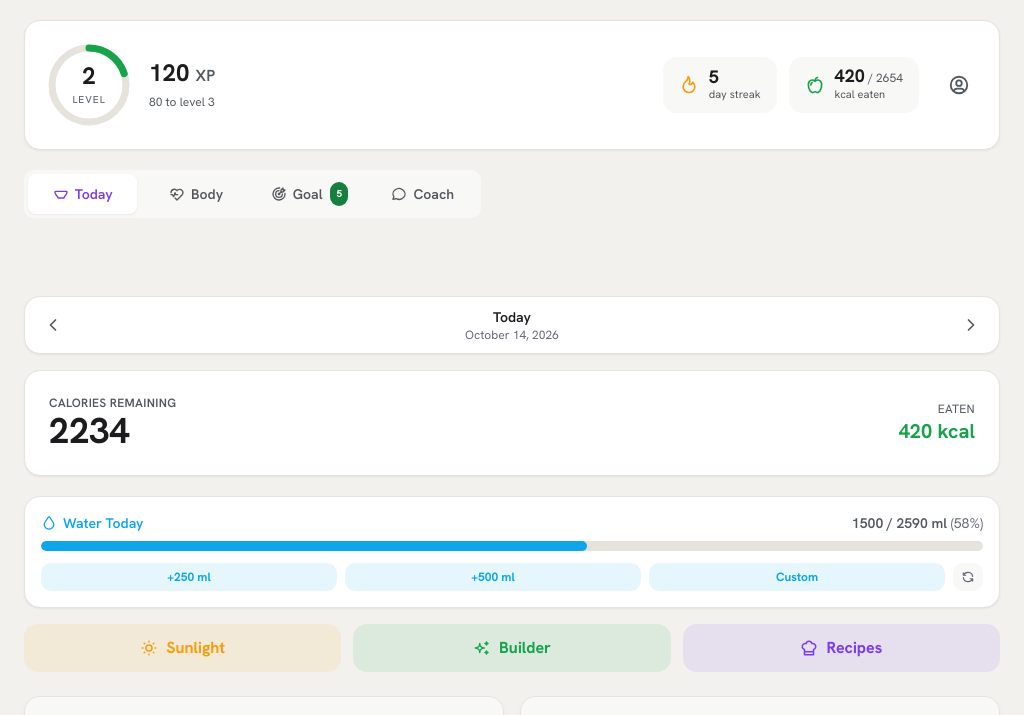
Body › keeps the analysis detail below the systems
This screenshot has width=1024, height=715.
Click the tab "Body" at coordinates (196, 194), box 141,174 -> 251,214
(page scrolled)
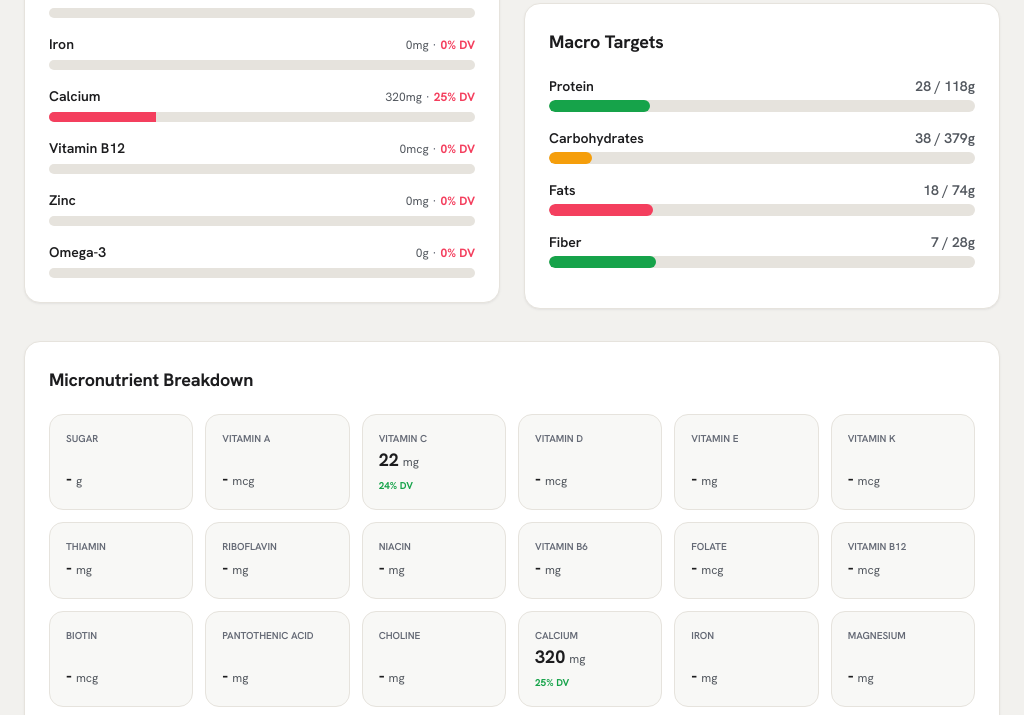
Expected: the heading "Macro Targets" is shown, 549,28 -> 664,56
Expected: the heading "Micronutrient Breakdown" is shown, 49,366 -> 253,394
